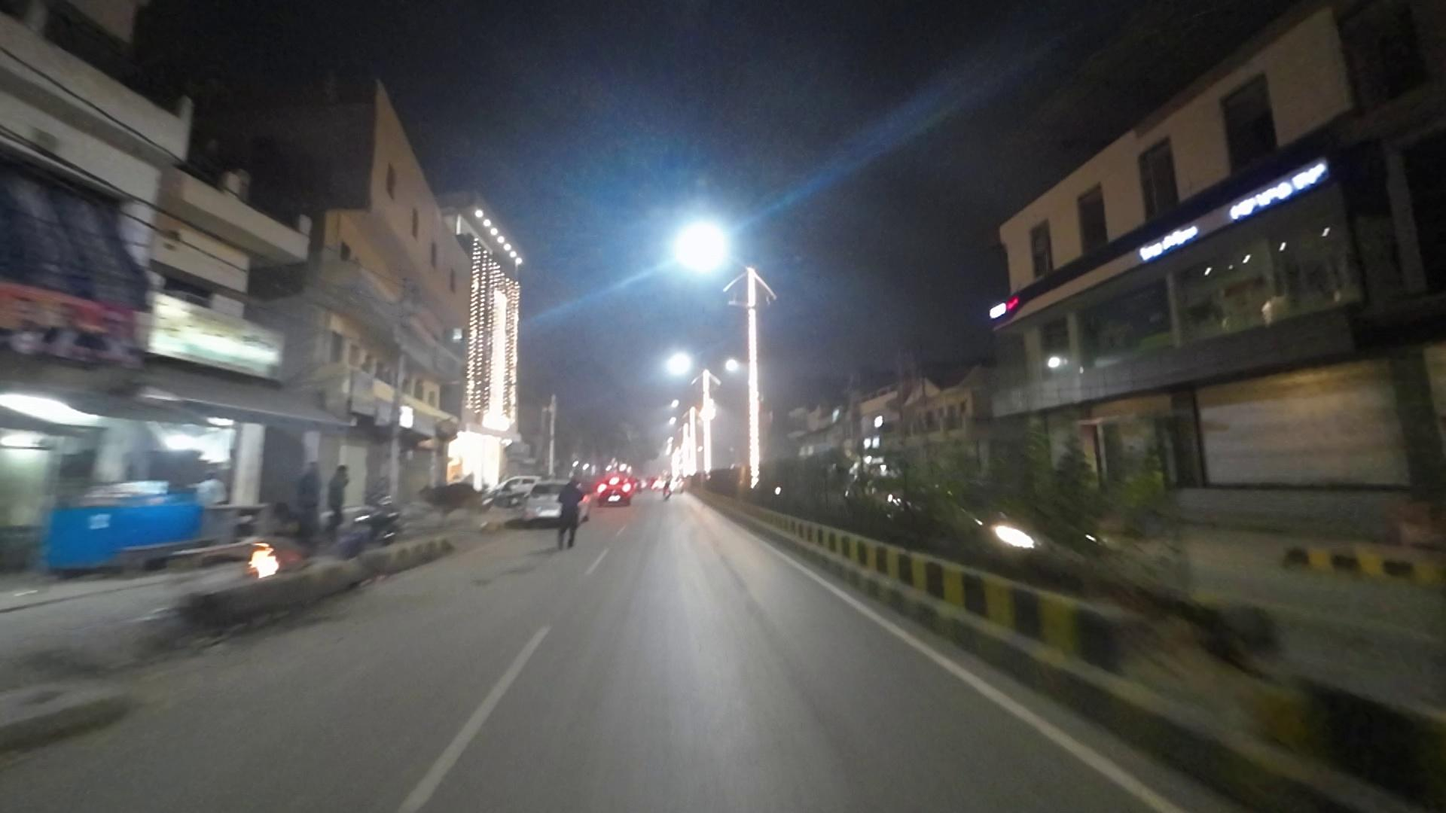streetlight: (754, 253, 806, 266)
